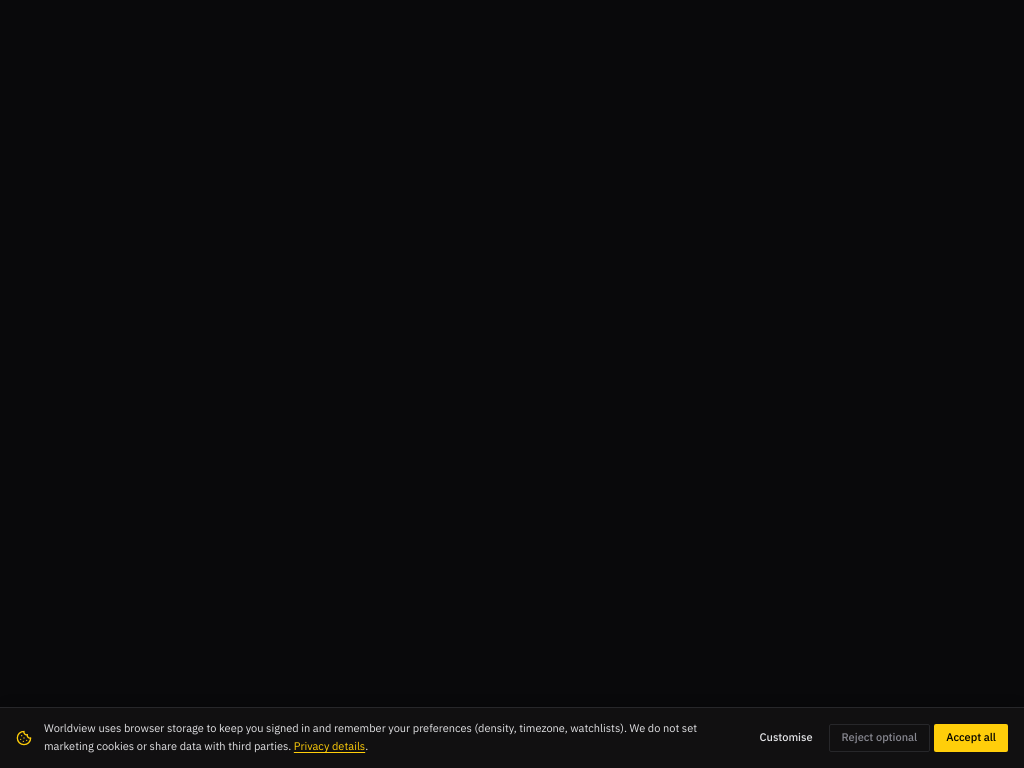
Test: CookieConsentBanner › shows the three category descriptions when 'Customise' is clicked
Click the button "Customise" at (786, 738), box [748,724,825,752]
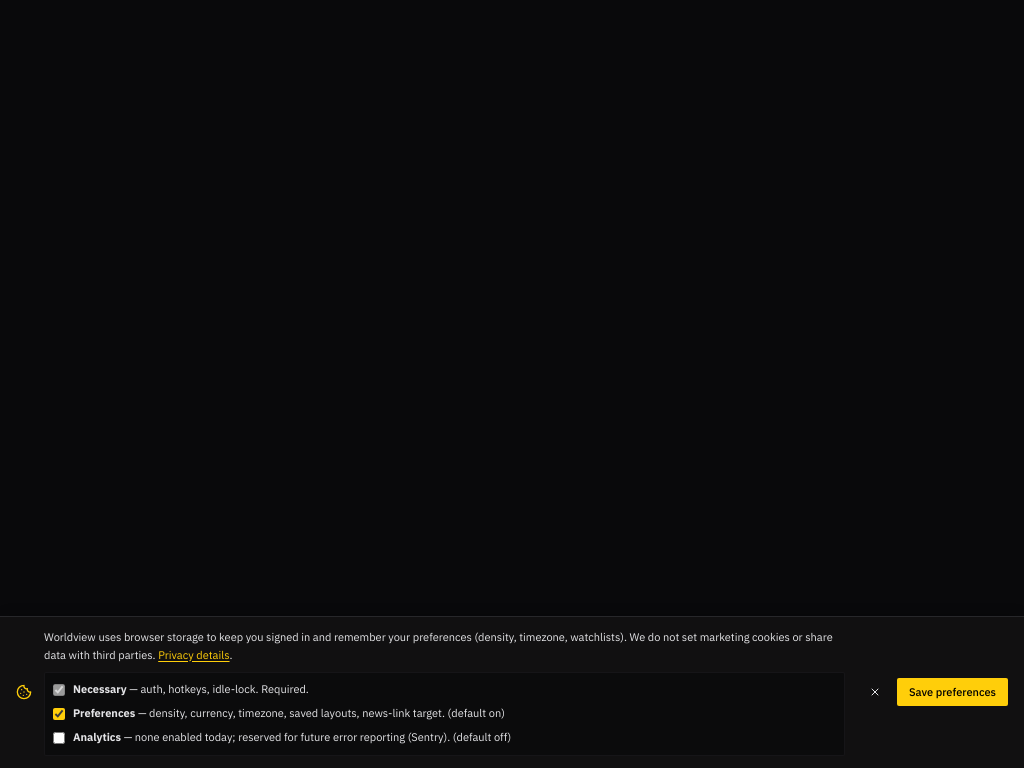
expect the text "Necessary" is shown: met, box [73,682,127,696]
expect the text "Preferences" is shown: met, box [73,706,135,720]
expect the text "Analytics" is shown: met, box [73,730,121,744]
